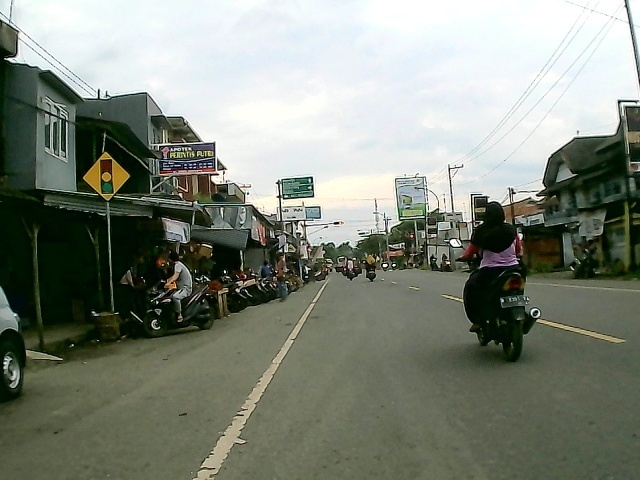Lampu isyarat: (79, 151, 133, 204)
